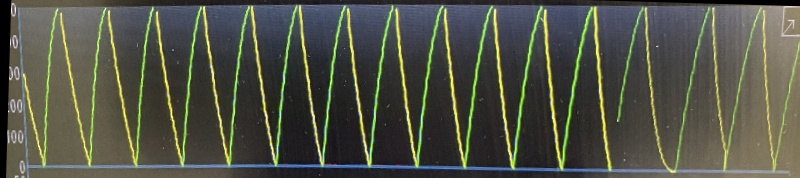normal_volume: (25, 2, 790, 174)
